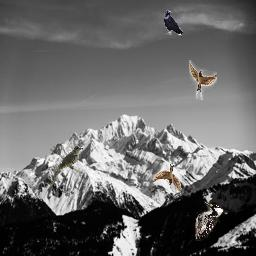Crow: (164, 10, 183, 37)
Cuckoo: (50, 146, 83, 186)
Swallow: (153, 156, 181, 196), (189, 60, 217, 100)
Woodpecker: (195, 201, 224, 241)
